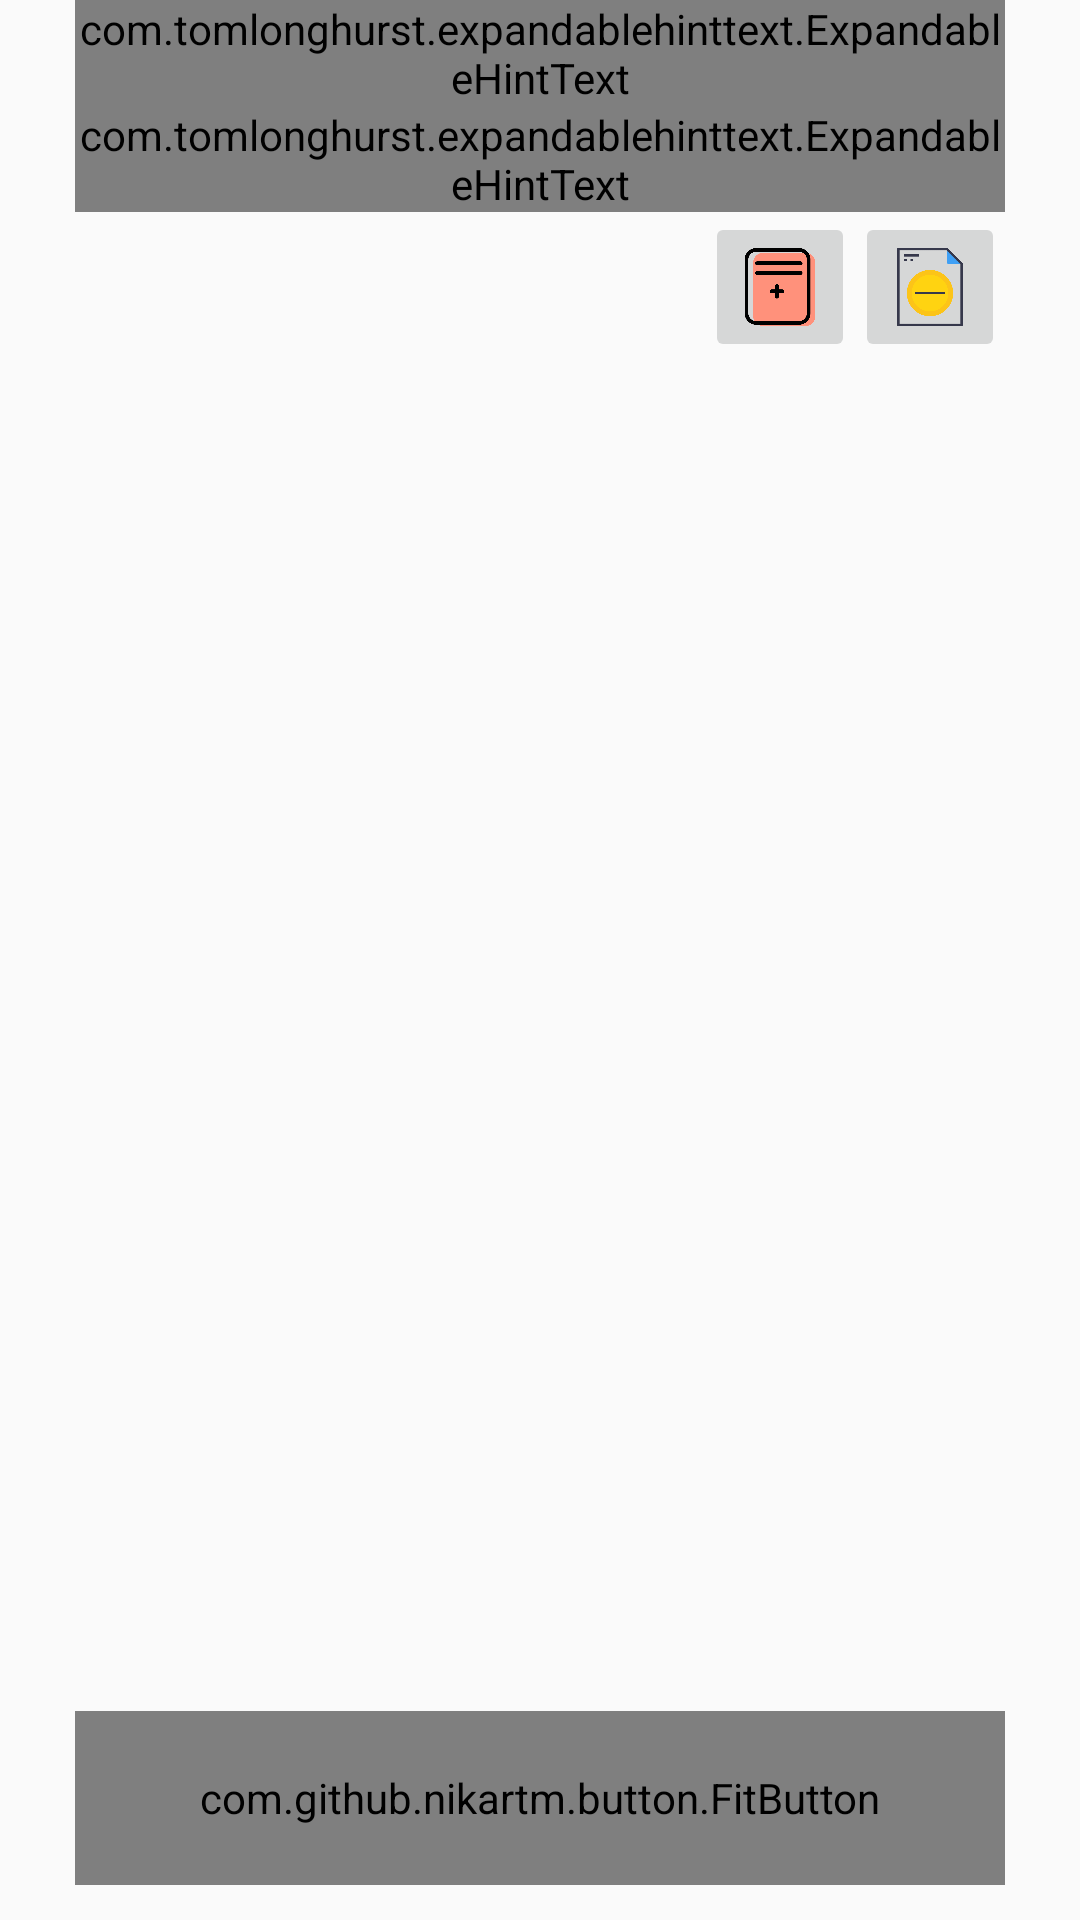

Point at icon controls on the screen. Image size 1080w x 1920h, points as (x=x, y=y).
minus: (x=930, y=287)
plus: (x=780, y=287)
